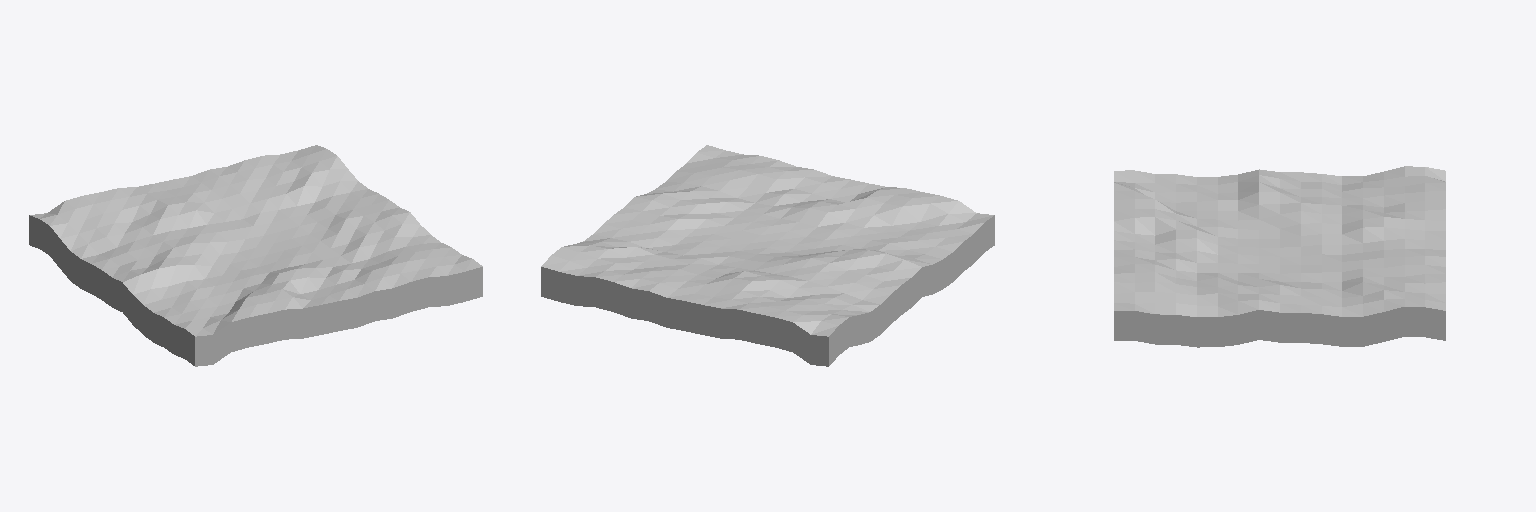
File: rock_floor_3d.obj
3 renders of one model, left to right at view 1: azimuth 30°, elevation 25°; view 2: azimuth 150°, elevation 25°; view 3: azimuth 270°, elevation 25°, orthographic.
Parts seen in each view (by area): view 1: Cube; view 2: Cube; view 3: Cube.
Part boxes in pixels (x1,y1,x2,y2): Cube: (29,145,482,366); Cube: (541,145,994,366); Cube: (1114,166,1445,347).
Size of the model in its own units: 2 by 0.2946 by 2.